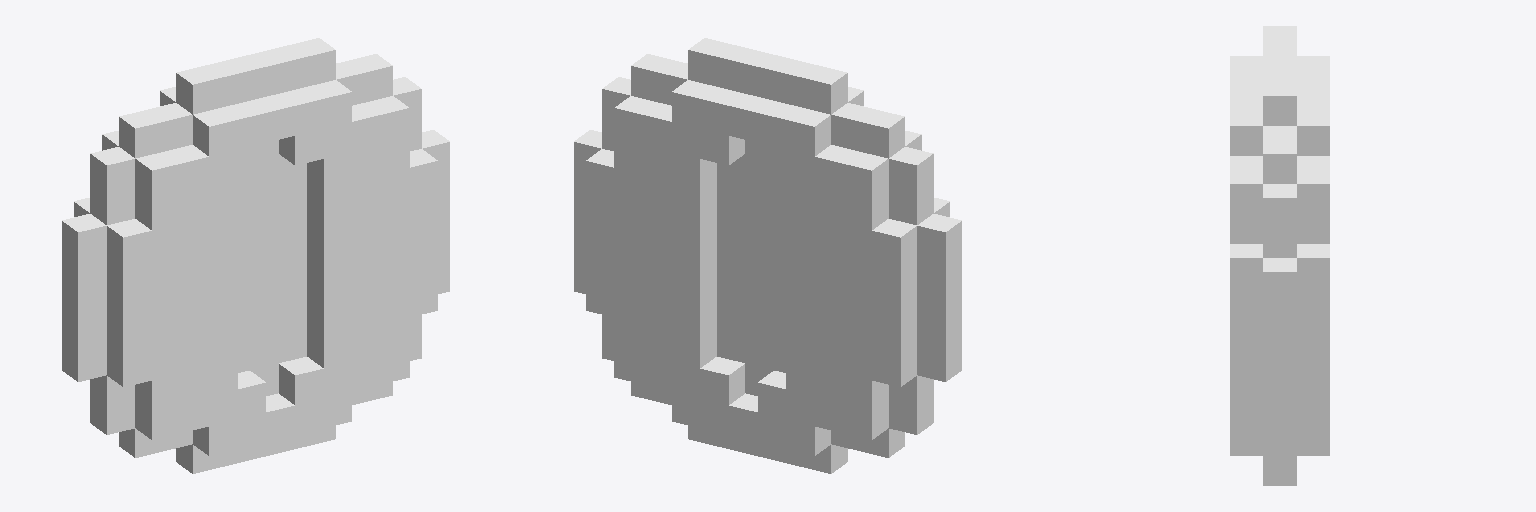
The model's file is pickup.obj.
3 views of the same model, side by side, from view 1: azimuth 30°, elevation 25°; view 2: azimuth 150°, elevation 25°; view 3: azimuth 270°, elevation 25° (orthographic).
Parts seen in each view (by area): view 1: object 1; view 2: object 1; view 3: object 1.
Part boxes in pixels (bbox=[...]): object 1: bbox=[62, 38, 449, 473]; object 1: bbox=[574, 38, 961, 473]; object 1: bbox=[1230, 26, 1329, 485].
Bounding box in the file's own units: 1.3 × 1.3 × 0.3.